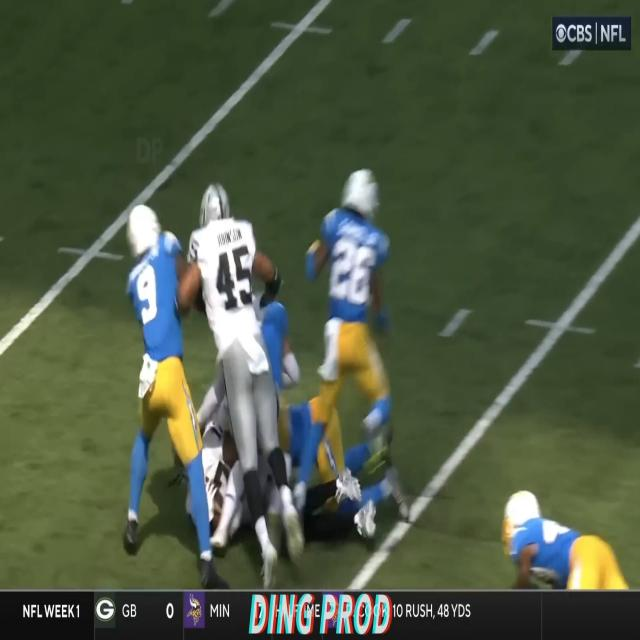players: (195, 180, 287, 592), (118, 196, 204, 572), (311, 169, 383, 551), (494, 485, 624, 594)
